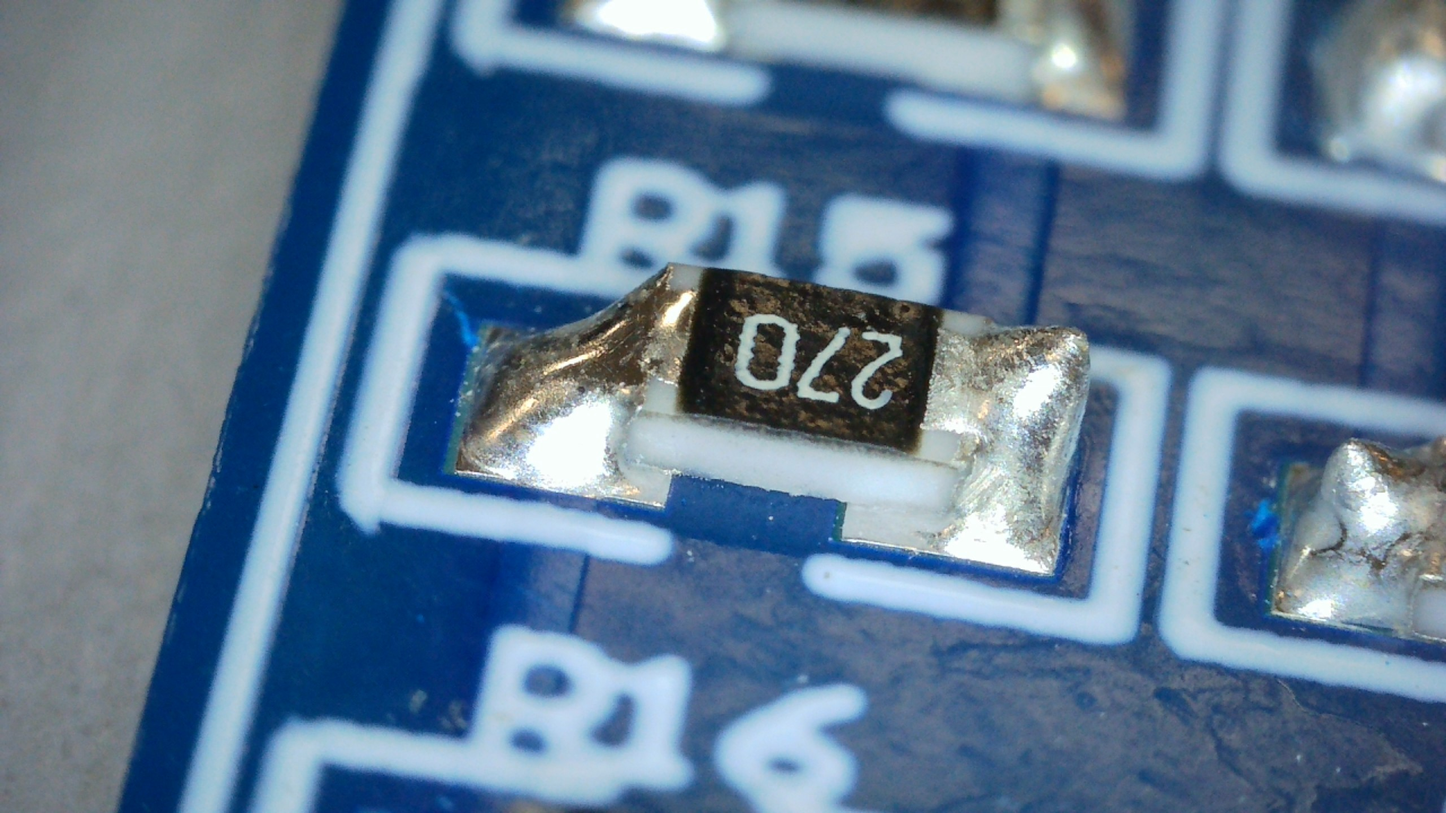NG: (930, 326, 1091, 571)
OK: (462, 264, 702, 496)
